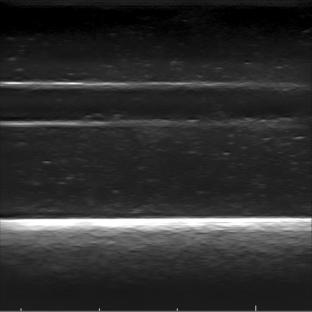vessel: (1, 80, 201, 129)
